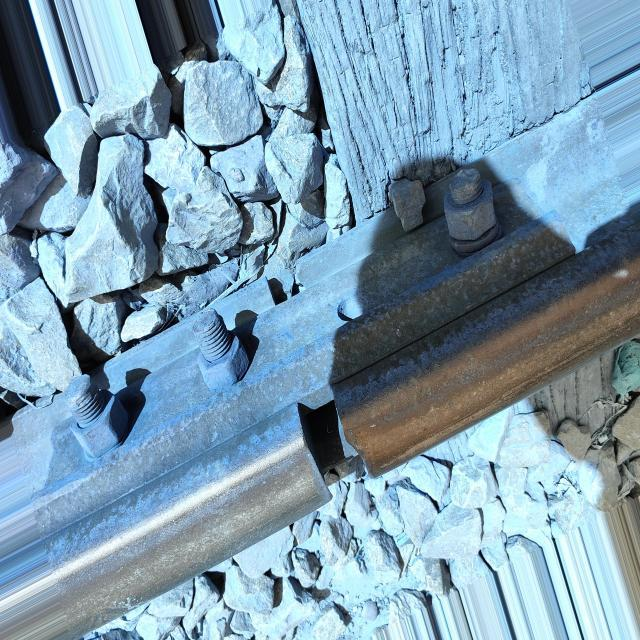Defective Joint: (32, 167, 583, 561)
